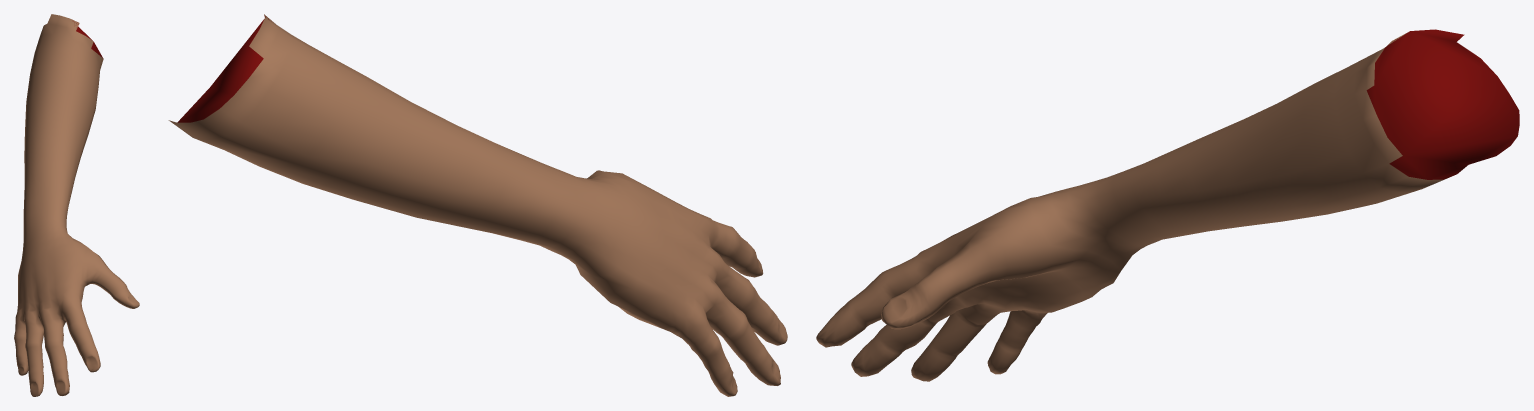
File: SM_Part_M1_arm_r.gltf
3 renders of one model, left to right at view 1: azimuth 30°, elevation 25°; view 2: azimuth 150°, elevation 25°; view 3: azimuth 270°, elevation 25°, orthographic. The views are drawn at different scales.
Parts seen in each view (by area): view 1: SM_Part_M1_arm_r; view 2: SM_Part_M1_arm_r; view 3: SM_Part_M1_arm_r.
Part boxes in pixels (x1,y1,x2,y2): SM_Part_M1_arm_r: (14, 14, 139, 396); SM_Part_M1_arm_r: (168, 14, 787, 396); SM_Part_M1_arm_r: (816, 29, 1519, 381).
Size of the model in its own units: 0.2502 by 0.3135 by 0.3985.
